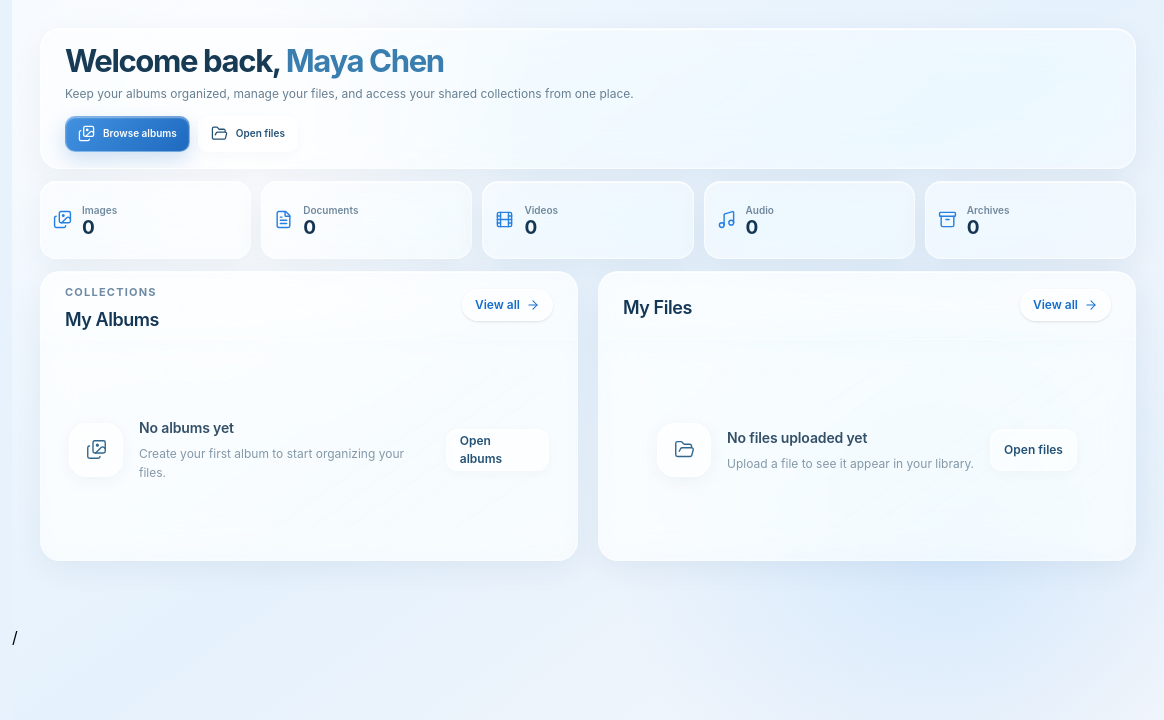
Test: page workflows › loads dashboard lists and category totals, then navigates to albums
Check: the heading "Welcome back, Maya Chen" is shown, box [65,42,444,80]
Click the link "Browse albums": (127, 134) [65,116,190,152]
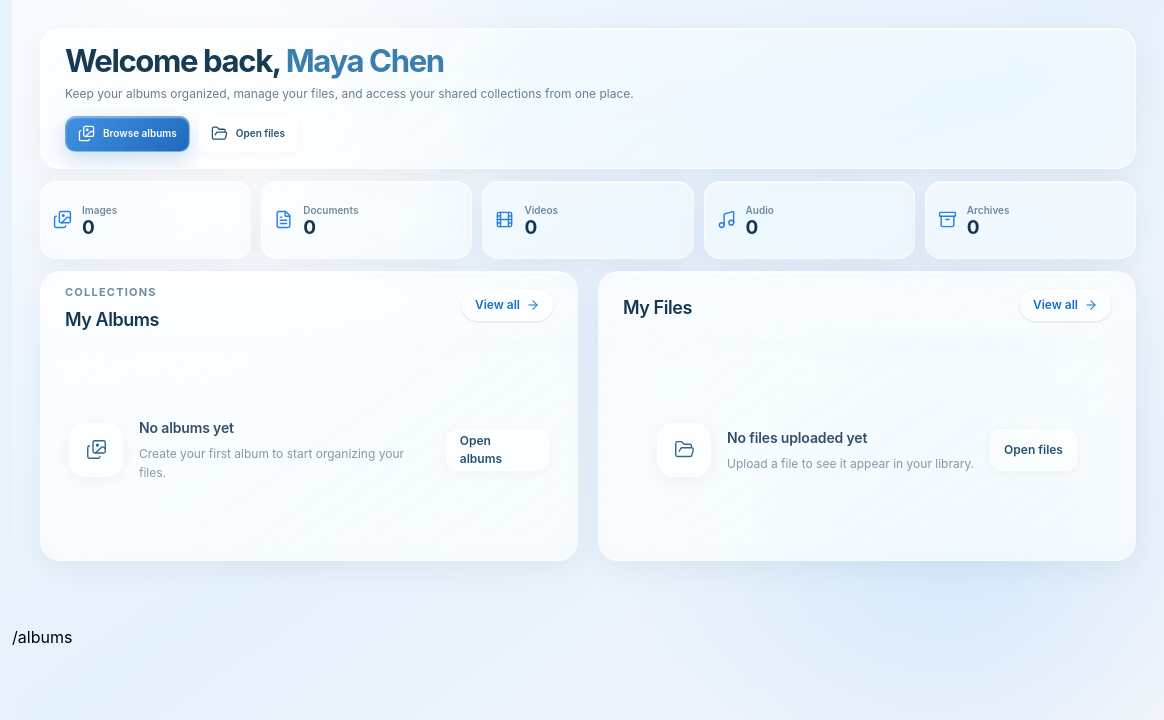
Check: the text with test id "current-path" reads "/albums", box [12,627,72,647]
